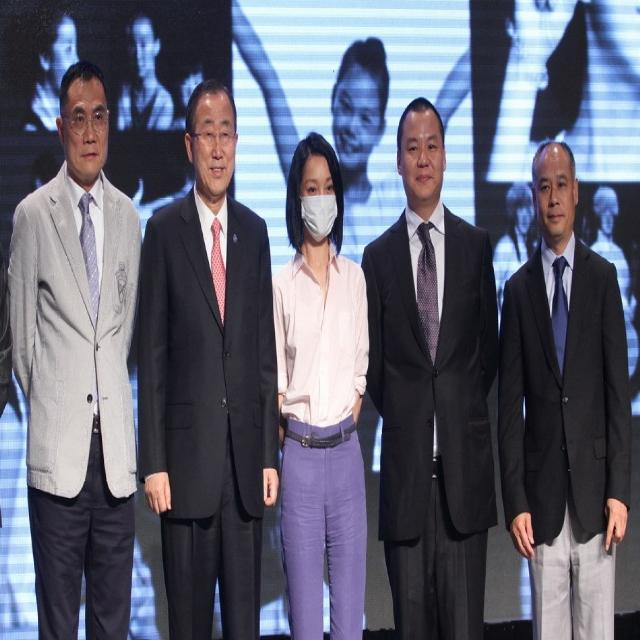mask: (538, 150, 574, 237), (404, 112, 439, 201), (302, 155, 337, 241)
nomask: (63, 80, 109, 175), (334, 73, 379, 164), (193, 99, 235, 192), (128, 28, 154, 75)
